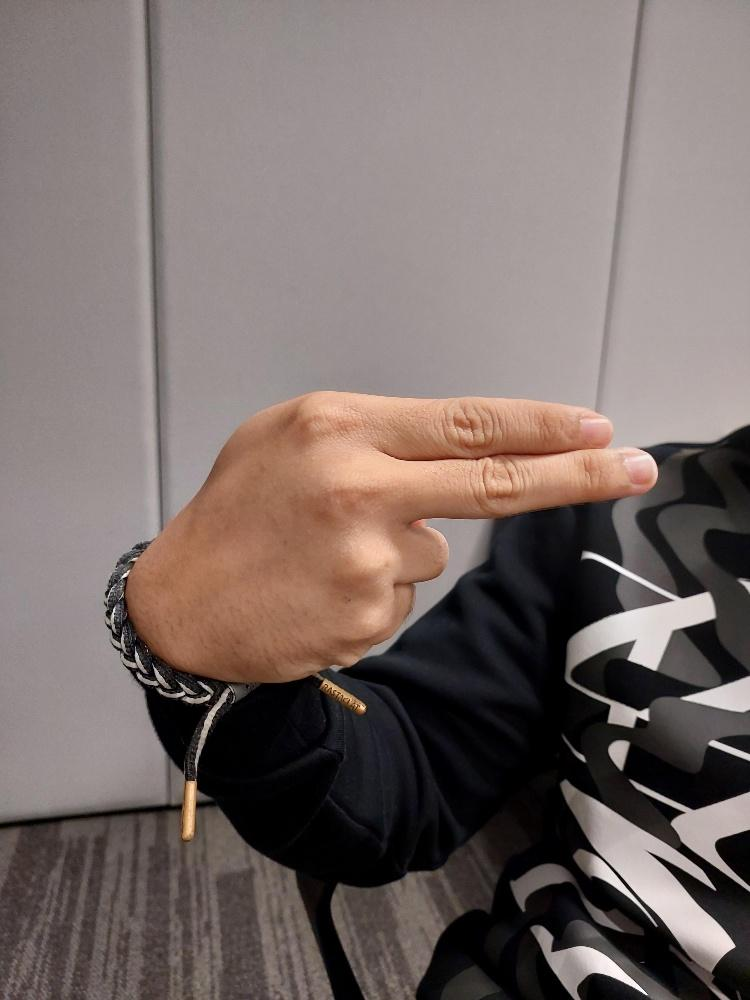h: (101, 388, 660, 683)
